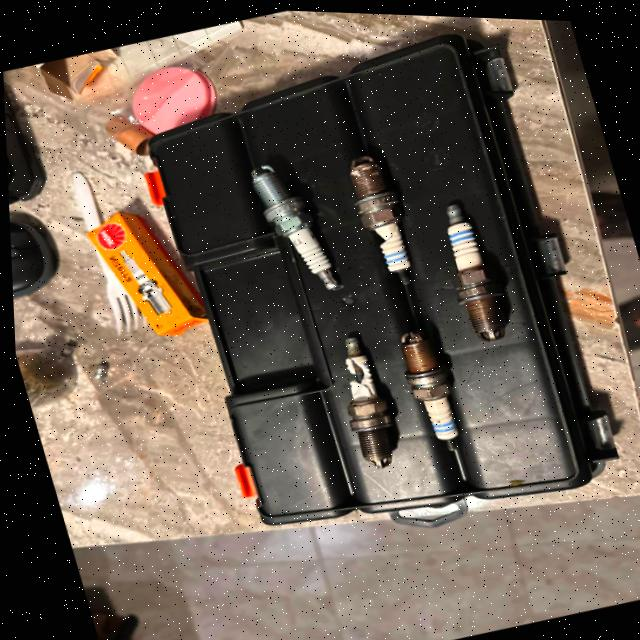damaged_spark-plug: (333, 138, 424, 292), (323, 317, 404, 464)
spark-plug: (227, 142, 341, 308), (427, 184, 521, 348), (387, 321, 468, 455)
